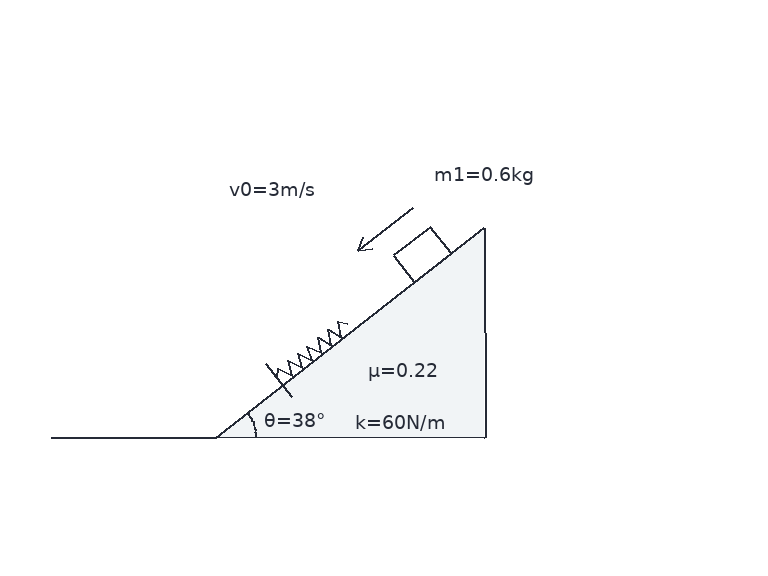block: (392, 225, 453, 284)
ramp: (214, 226, 486, 439)
spring: (275, 320, 349, 380)
